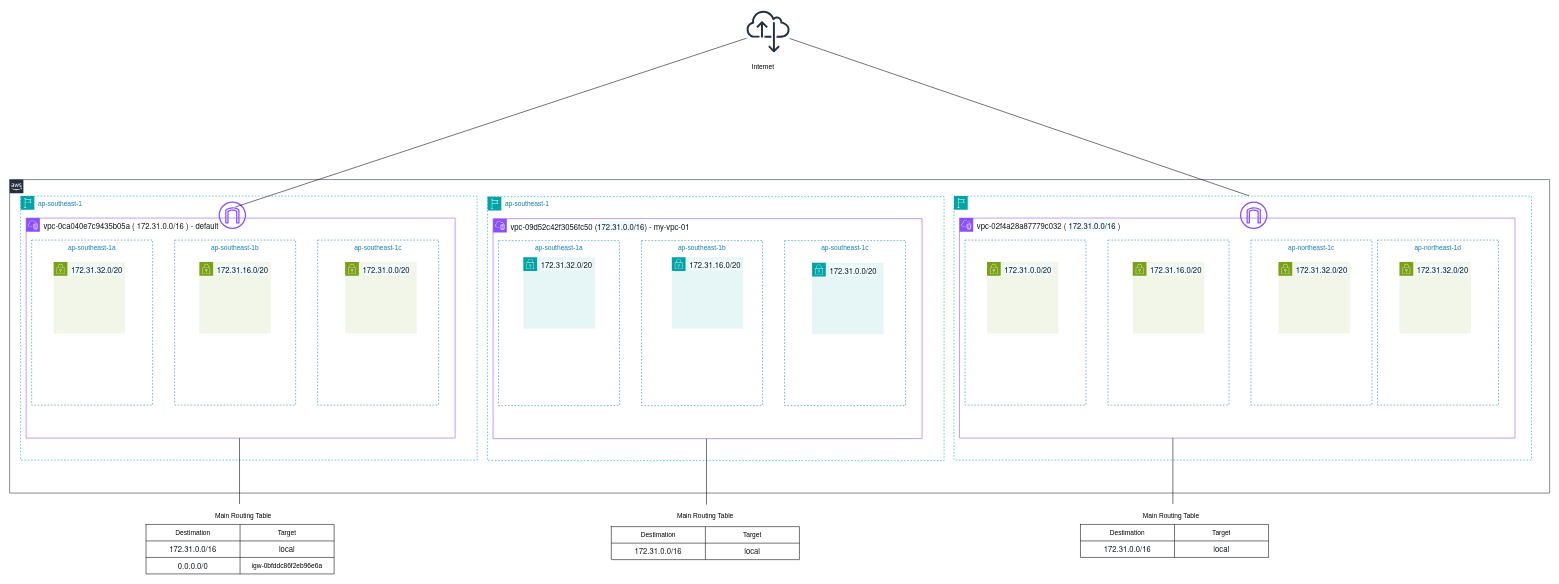
Image size: 1559x584. Some labels were removed from this diagram. The box of each missing label's shape, as (x1, y1, x2, y2) in pixels:
ap-northeast-1a: (964, 240, 1086, 405)
ap-northeast-1b: (1107, 240, 1229, 405)
ap-northeast-2: (953, 196, 1531, 460)
AWS Cloud: (9, 179, 1550, 493)
